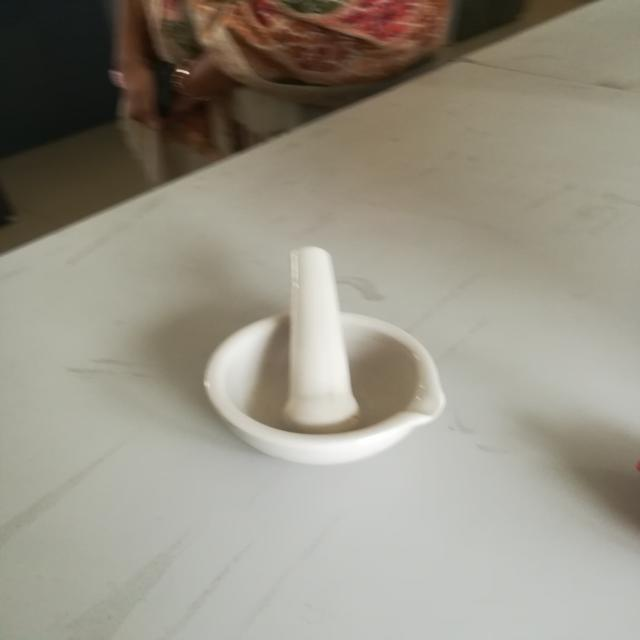Porcelain_Mortar Pestle: (153, 217, 473, 493)
